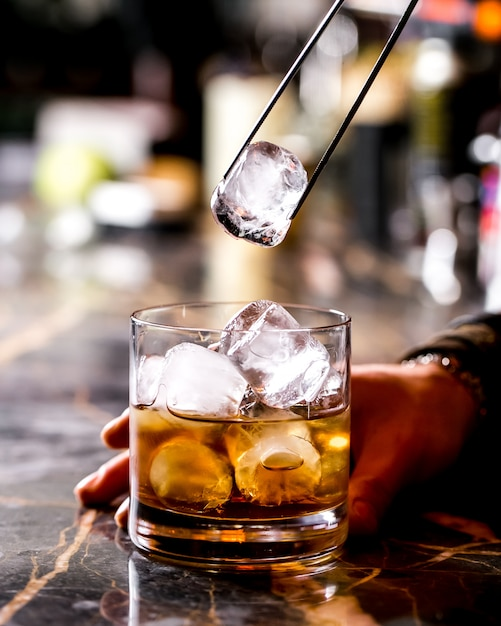alcohol: (125, 299, 355, 573)
